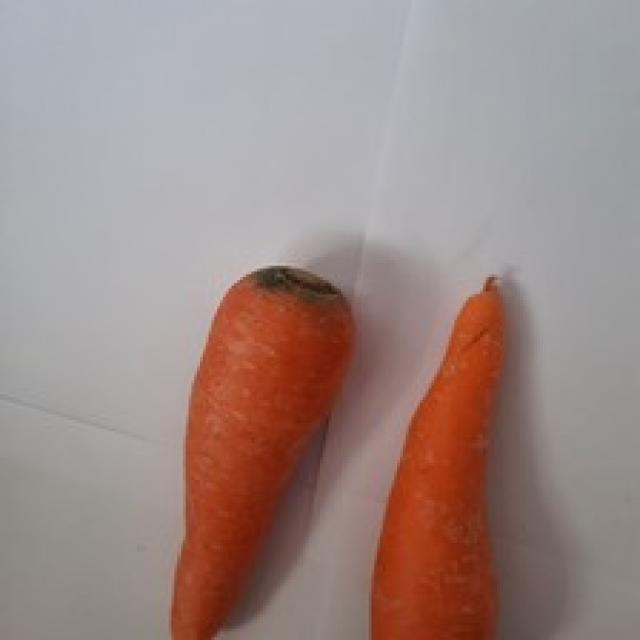Fresh_Carrot: (171, 262, 346, 640), (377, 250, 511, 640)
